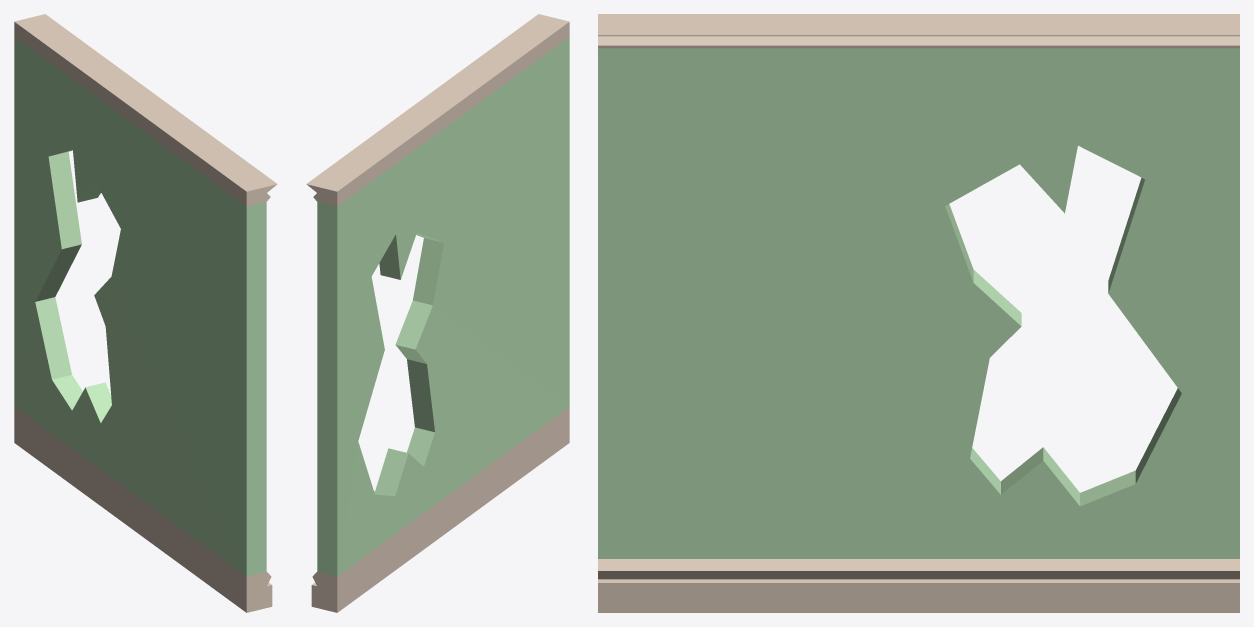
File: Wall_LargeHole3.fbx
3 renders of one model, left to right at view 1: azimuth 30°, elevation 25°; view 2: azimuth 150°, elevation 25°; view 3: azimuth 270°, elevation 25°, orthographic. The views are drawn at different scales.
Parts seen in each view (by area): view 1: Cube; view 2: Cube; view 3: Cube.
Boxes of the visible parts, <box> form: Cube: <box>14,14,277,612</box>; Cube: <box>306,14,569,612</box>; Cube: <box>598,14,1239,612</box>.
Size of the model in its own units: 61.8 by 800 by 800.
